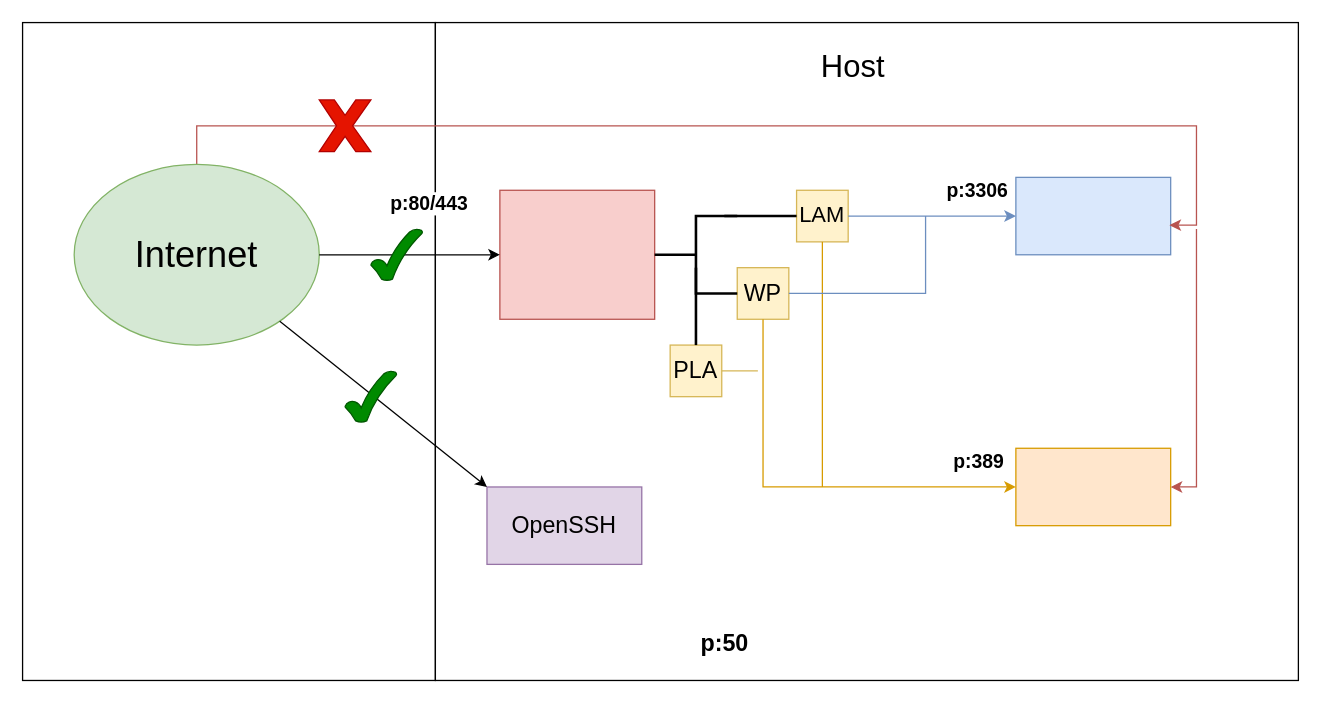
The diagram is 1322 pixels wide and 703 high, and some of its shapes have lost their labels. Here are the shapes that lost their labels. From the top down, the box of each, then its label:
(1015, 176, 1171, 255): MySQL
(499, 189, 655, 319): Apache
(1015, 447, 1171, 526): OpenLDAP
